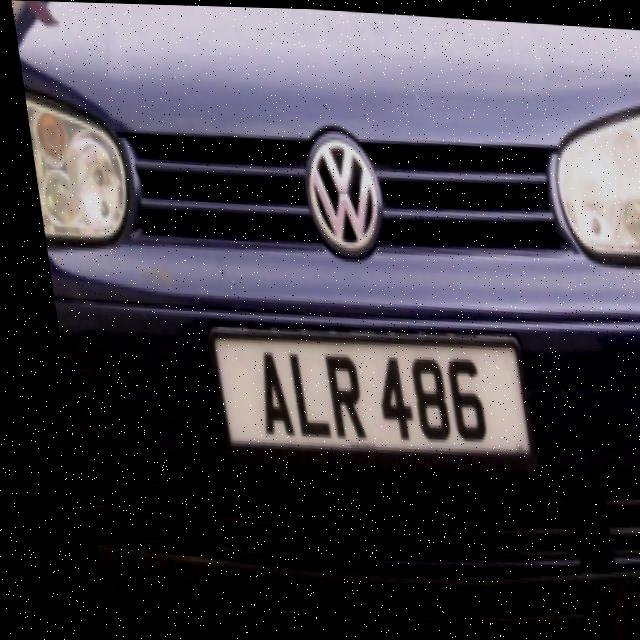license_plate: (190, 330, 502, 476)
